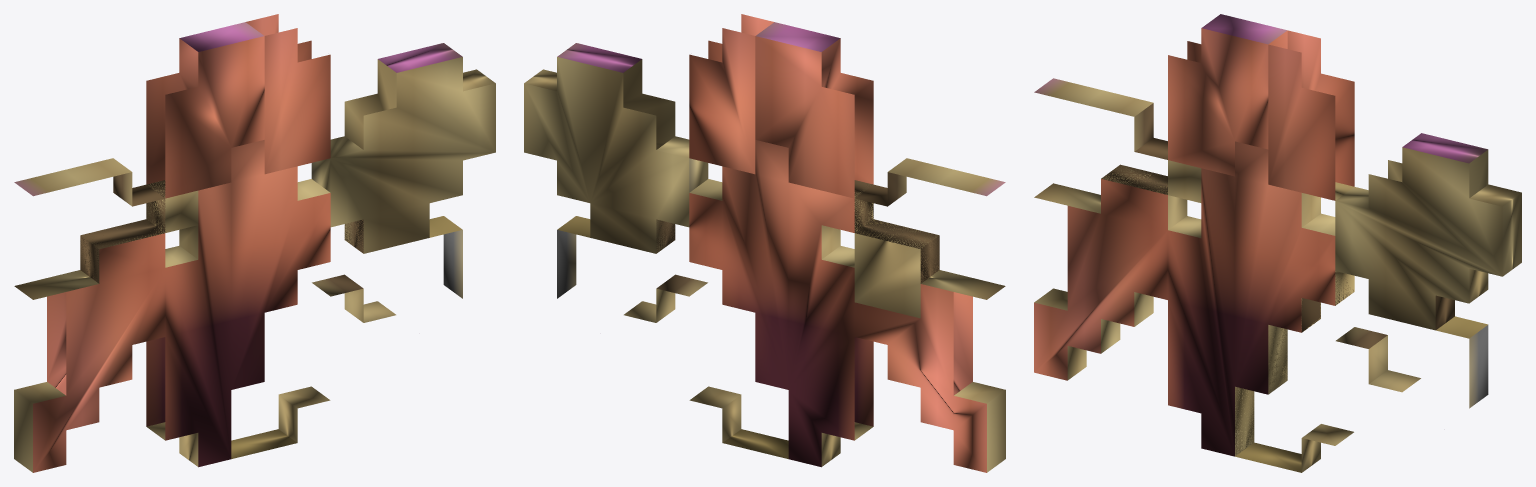
File: 巧克力包层浆果.obj
The picture shows the model from 3 angles, left to right: view 1: azimuth 30°, elevation 25°; view 2: azimuth 150°, elevation 25°; view 3: azimuth 330°, elevation 25°; orthographic projection.
Parts seen in each view (by area): view 1: mesh_mask_3, mesh_mask_2, mesh_mask_1, mesh_mask_4; view 2: mesh_mask_3, mesh_mask_2, mesh_mask_1, mesh_mask_4; view 3: mesh_mask_3, mesh_mask_2, mesh_mask_1, mesh_mask_4.
Part boxes in pixels (bbox=[...]): mesh_mask_3: bbox=[14, 140, 330, 472]; mesh_mask_2: bbox=[246, 14, 495, 253]; mesh_mask_1: bbox=[14, 22, 264, 299]; mesh_mask_4: bbox=[231, 216, 462, 458]; mesh_mask_3: bbox=[689, 140, 1005, 472]; mesh_mask_2: bbox=[524, 14, 773, 253]; mesh_mask_1: bbox=[755, 22, 1005, 299]; mesh_mask_4: bbox=[557, 216, 788, 458]; mesh_mask_3: bbox=[1034, 141, 1354, 456]; mesh_mask_2: bbox=[1268, 30, 1521, 330]; mesh_mask_1: bbox=[1034, 14, 1287, 213]; mesh_mask_4: bbox=[1235, 272, 1488, 472].
Size of the model in its own units: 14 by 12 by 1.
1 material, 1 textured.
